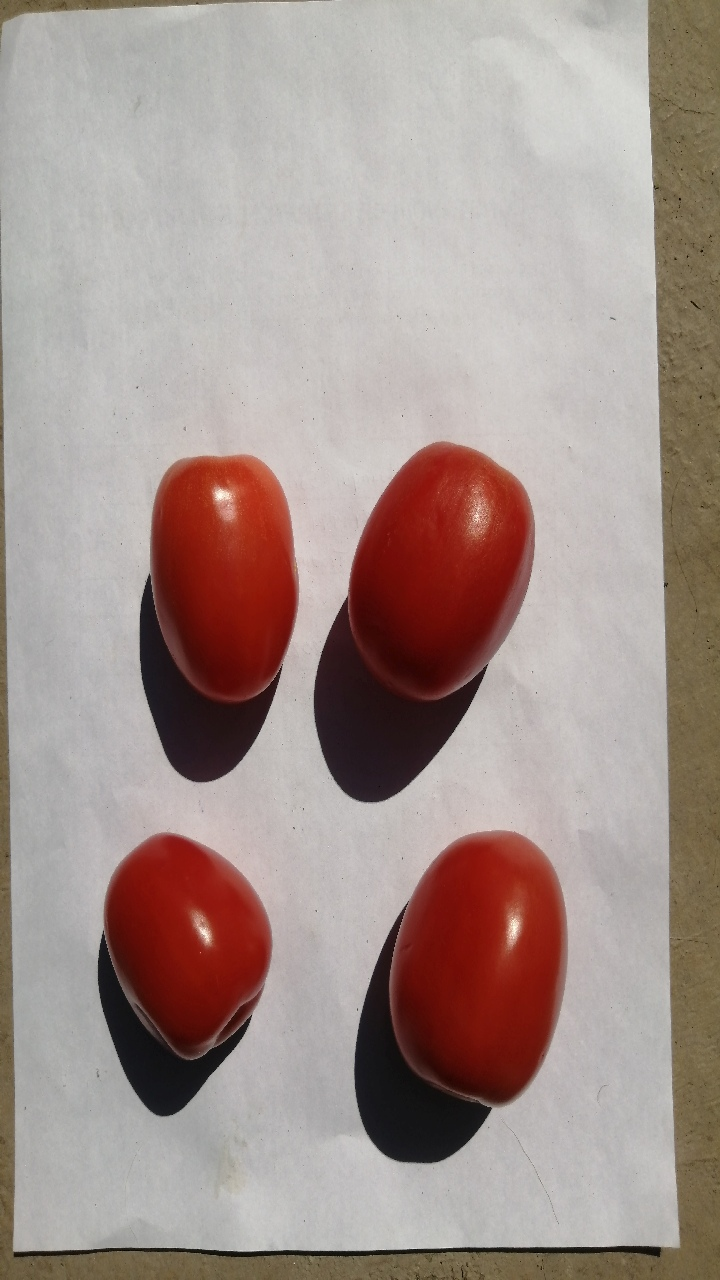tomateRojo: (335, 419, 540, 715), (381, 815, 572, 1115), (140, 437, 311, 735), (94, 815, 266, 1071)
